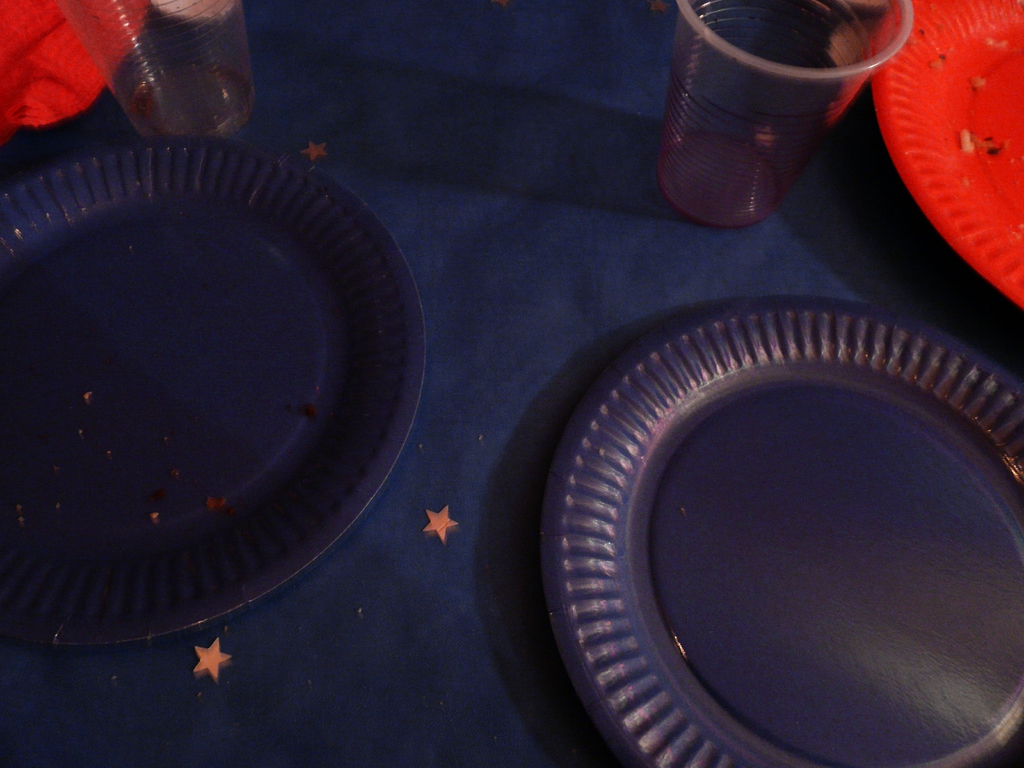plate: (0, 85, 413, 636)
